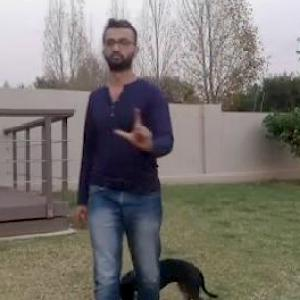land_hand: (114, 103, 157, 154)
